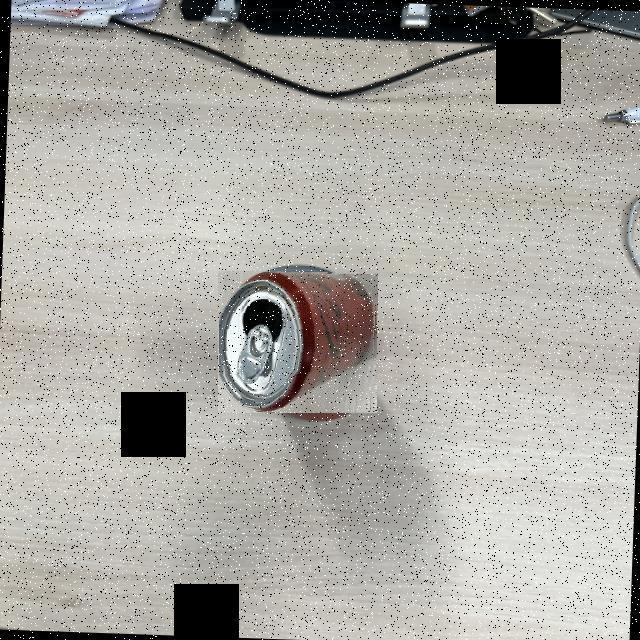recyclable: (219, 272, 376, 412)
